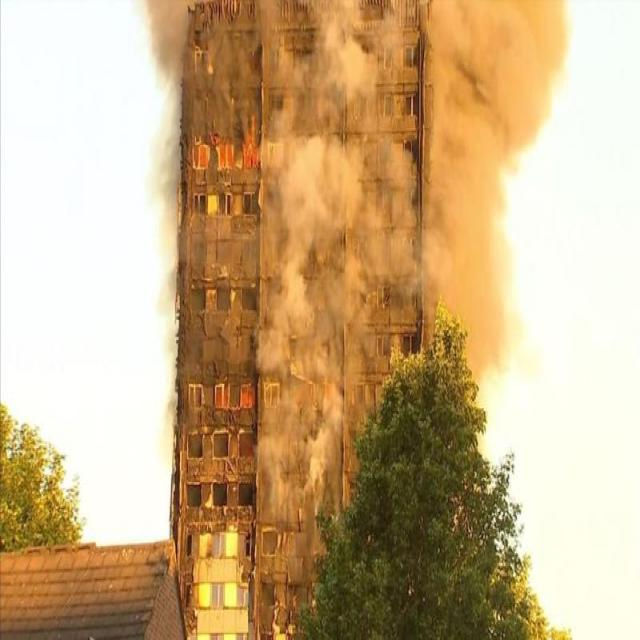Smoke: (428, 0, 550, 363), (270, 112, 344, 512), (157, 16, 187, 438)
